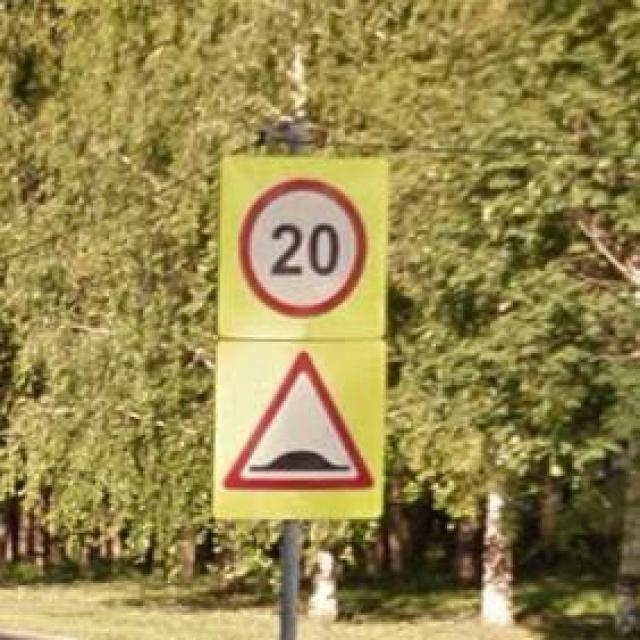traffic_sign: (222, 351, 377, 494), (238, 178, 366, 319)
